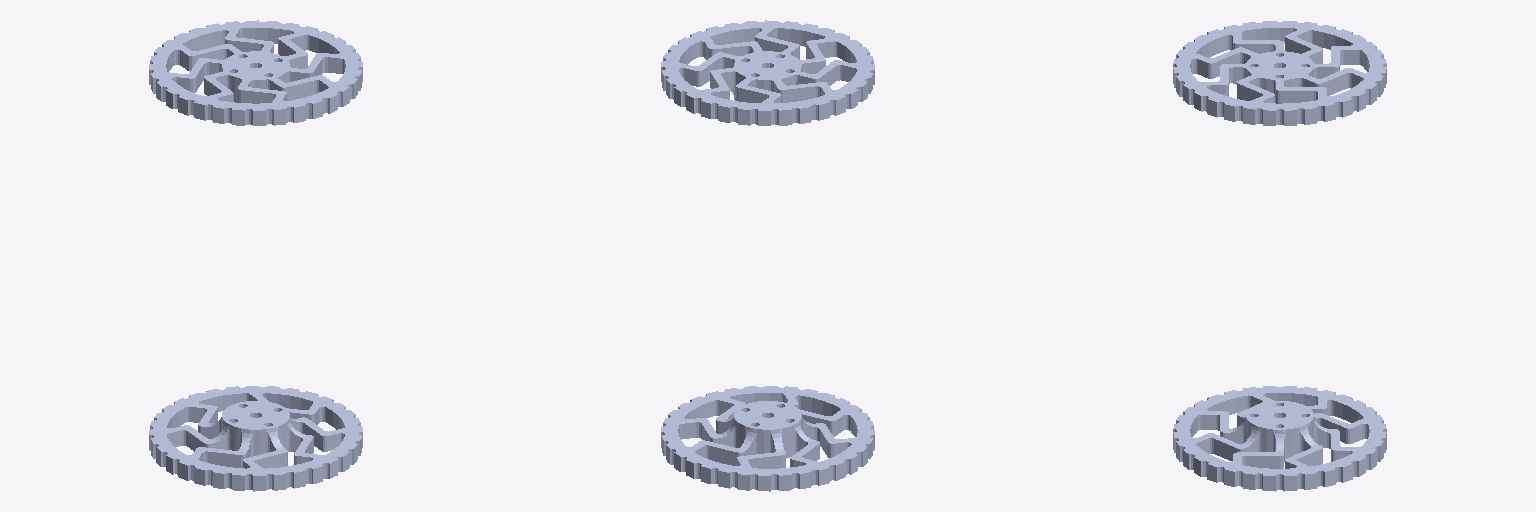
robot.urdf — bb_mini:
<?xml version="1.0" encoding="utf-8"?>
<!-- This URDF was automatically created by SolidWorks to URDF Exporter! Originally created by [author] ([email redacted]) 
     Commit Version: 1.6.0-4-g7f85cfe  Build Version: 1.6.7995.38578
     For more information, please see http://wiki.ros.org/sw_urdf_exporter -->
<robot
  name="bb_mini">
  <link
    name="base_link">
    <inertial>
      <origin
        xyz="0.000317055566710628 0.076488417570947 -2.58437172176064E-06"
        rpy="0 0 0" />
      <mass
        value="0.192203558749535" />
      <inertia
        ixx="0.000173938143807583"
        ixy="-3.60858061315641E-20"
        ixz="1.68020070090228E-10"
        iyy="5.44771508067426E-05"
        iyz="-1.90432005930742E-19"
        izz="0.000152313711792622" />
    </inertial>
    <visual>
      <origin
        xyz="0 0 0"
        rpy="0 0 0" />
      <geometry>
        <mesh
          filename="../meshes/base_link.STL" />
      </geometry>
      <material
        name="">
        <color
          rgba="0.792156862745098 0.819607843137255 0.933333333333333 1" />
      </material>
    </visual>
    <collision>
      <origin
        xyz="0 0 0"
        rpy="0 0 0" />
      <geometry>
        <mesh
          filename="../meshes/base_link.STL" />
      </geometry>
    </collision>
  </link>
  <link
    name="right_wheel">
    <inertial>
      <origin
        xyz="3.24201357137619E-17 1.38777878078145E-17 -0.0850823988598058"
        rpy="0 0 0" />
      <mass
        value="0.00496078957070453" />
      <inertia
        ixx="7.48720067275436E-07"
        ixy="-2.58695889814558E-22"
        ixz="5.30448166659125E-23"
        iyy="7.48720067275434E-07"
        iyz="-5.30943027159063E-23"
        izz="1.4639509286255E-06" />
    </inertial>
    <visual>
      <origin
        xyz="0 0 0"
        rpy="0 0 0" />
      <geometry>
        <mesh
          filename="../meshes/right_wheel.STL" />
      </geometry>
      <material
        name="">
        <color
          rgba="0.792156862745098 0.819607843137255 0.933333333333333 1" />
      </material>
    </visual>
    <collision>
      <origin
        xyz="0 0 0"
        rpy="0 0 0" />
      <geometry>
        <mesh
          filename="../meshes/right_wheel.STL" />
      </geometry>
    </collision>
  </link>
  <joint
    name="right_servo"
    type="continuous">
    <origin
      xyz="0 0.0095 0.0387"
      rpy="0 0 0" />
    <parent
      link="base_link" />
    <child
      link="right_wheel" />
    <axis
      xyz="0 0 -1" />
    <limit
      effort="0.52"
      velocity="10.89" />
  </joint>
  <link
    name="left_wheel">
    <inertial>
      <origin
        xyz="-3.27796769058235E-17 1.38777878078145E-17 0.0850823988598058"
        rpy="0 0 0" />
      <mass
        value="0.00496078957070453" />
      <inertia
        ixx="7.48720067275435E-07"
        ixy="1.56986475582601E-22"
        ixz="7.52493561978411E-23"
        iyy="7.48720067275433E-07"
        iyz="-5.59121493864916E-23"
        izz="1.4639509286255E-06" />
    </inertial>
    <visual>
      <origin
        xyz="0 0 0"
        rpy="0 0 0" />
      <geometry>
        <mesh
          filename="../meshes/left_wheel.STL" />
      </geometry>
      <material
        name="">
        <color
          rgba="0.792156862745098 0.819607843137255 0.933333333333333 1" />
      </material>
    </visual>
    <collision>
      <origin
        xyz="0 0 0"
        rpy="0 0 0" />
      <geometry>
        <mesh
          filename="../meshes/left_wheel.STL" />
      </geometry>
    </collision>
  </link>
  <joint
    name="left_servo"
    type="continuous">
    <origin
      xyz="0 0.0095 -0.0385"
      rpy="0 0 0" />
    <parent
      link="base_link" />
    <child
      link="left_wheel" />
    <axis
      xyz="0 0 -1" />
    <limit
      effort="0.52"
      velocity="10.89" />
  </joint>
</robot>

--- Facts derived from the render (not from the file) ---
3 views of the same robot in one strip: view 1: azimuth 30°, elevation 25°; view 2: azimuth 150°, elevation 25°; view 3: azimuth 270°, elevation 25° (orthographic).
Model bb_mini with 3 links and 2 joints (2 continuous), rooted at base_link, posed every joint at zero.
Links seen in each view (by area): view 1: left_wheel, right_wheel; view 2: right_wheel, left_wheel; view 3: right_wheel, left_wheel.
Link boxes in pixels (left/top/right/bottom): left_wheel: left=149, top=20, right=362, bottom=125; right_wheel: left=149, top=386, right=362, bottom=491; right_wheel: left=661, top=386, right=874, bottom=491; left_wheel: left=661, top=20, right=874, bottom=125; right_wheel: left=1173, top=386, right=1386, bottom=491; left_wheel: left=1173, top=20, right=1386, bottom=125.
Size in the robot's own frame: 0.05 by 0.05 by 0.0982 metres.
2 mesh visuals loaded from 3 distinct referenced files (2 binary STL); not drawn: 1 (reference not matched to a file when rendering).
